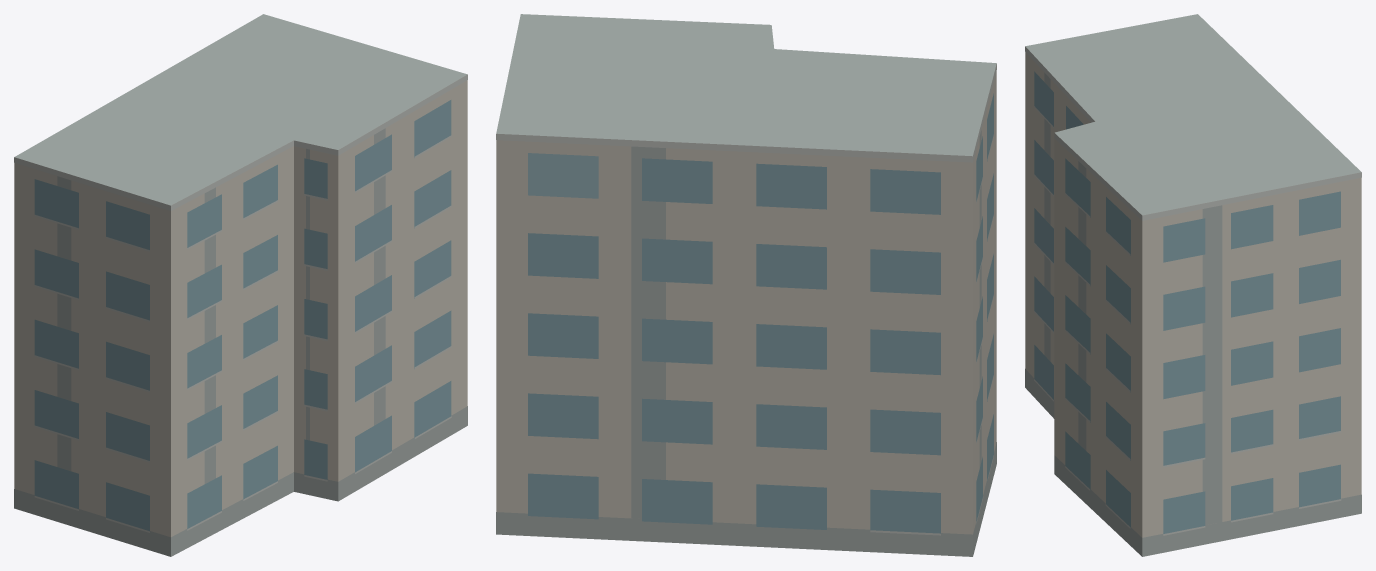
Rendered from residential-290e0254-ef0c-4697-8092-da52f9703582.glb.
3 renders of one model, left to right at view 1: azimuth 30°, elevation 25°; view 2: azimuth 150°, elevation 25°; view 3: azimuth 270°, elevation 25°, orthographic. The views are drawn at different scales.
Parts seen in each view (by area): view 1: residential-290e0254-ef0c-4697-8092-da52f9703582.tmp; view 2: residential-290e0254-ef0c-4697-8092-da52f9703582.tmp; view 3: residential-290e0254-ef0c-4697-8092-da52f9703582.tmp.
Boxes of the visible parts, x1,y1,x2,y2 form: residential-290e0254-ef0c-4697-8092-da52f9703582.tmp: (14,14,467,556); residential-290e0254-ef0c-4697-8092-da52f9703582.tmp: (496,14,996,556); residential-290e0254-ef0c-4697-8092-da52f9703582.tmp: (1025,14,1361,556).
Bounding box in the file's own units: 19.32 × 15.25 × 13.64.
